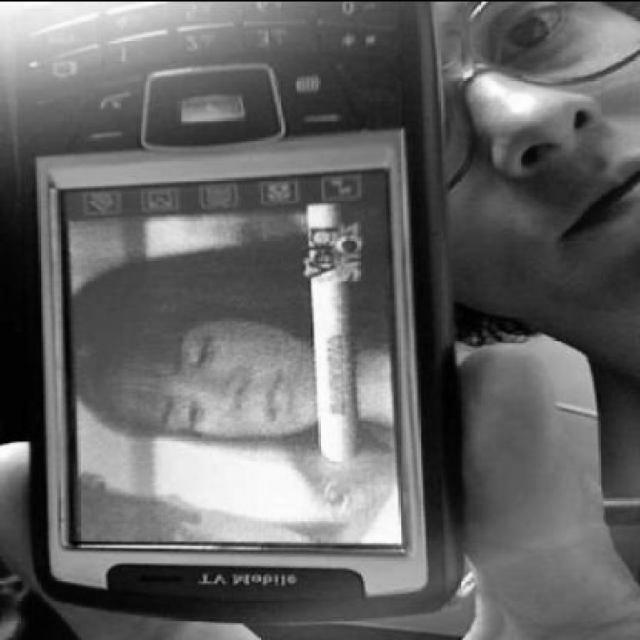fake: (56, 60, 482, 622)
